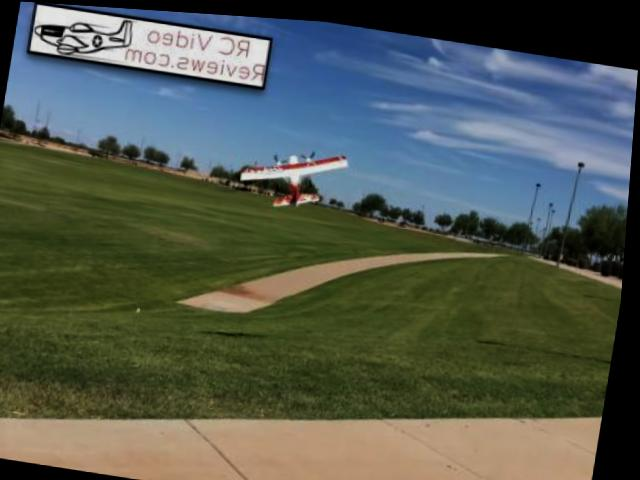uav: (232, 125, 359, 219)
